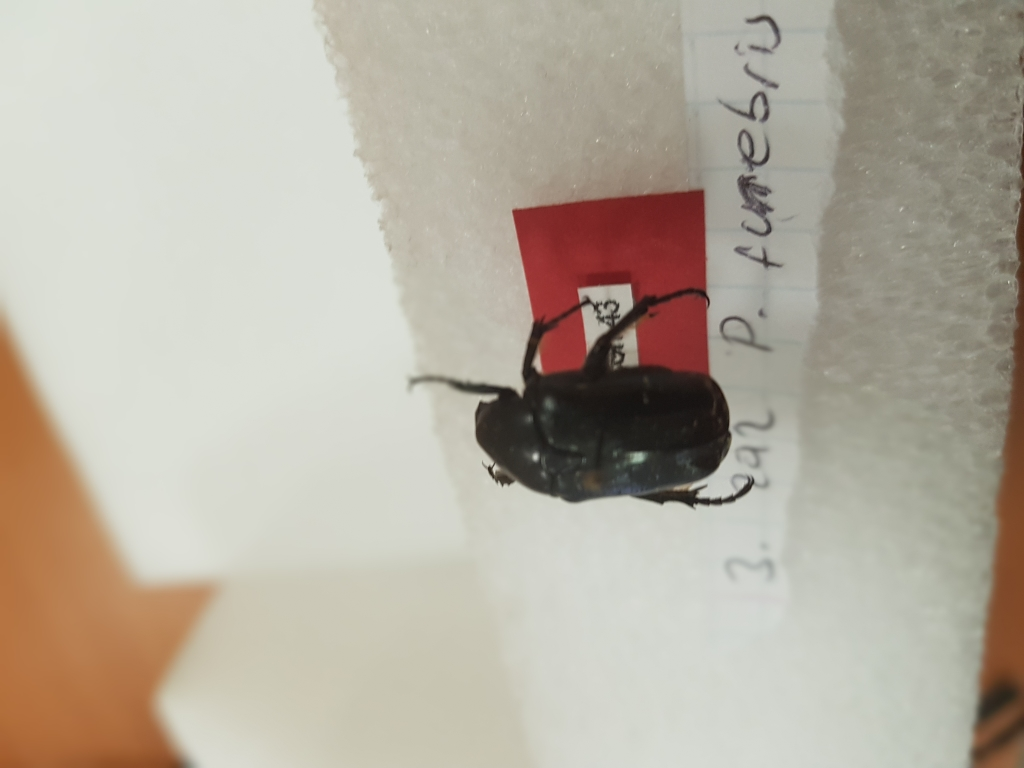Protaetia_funebris: (391, 274, 764, 512)
